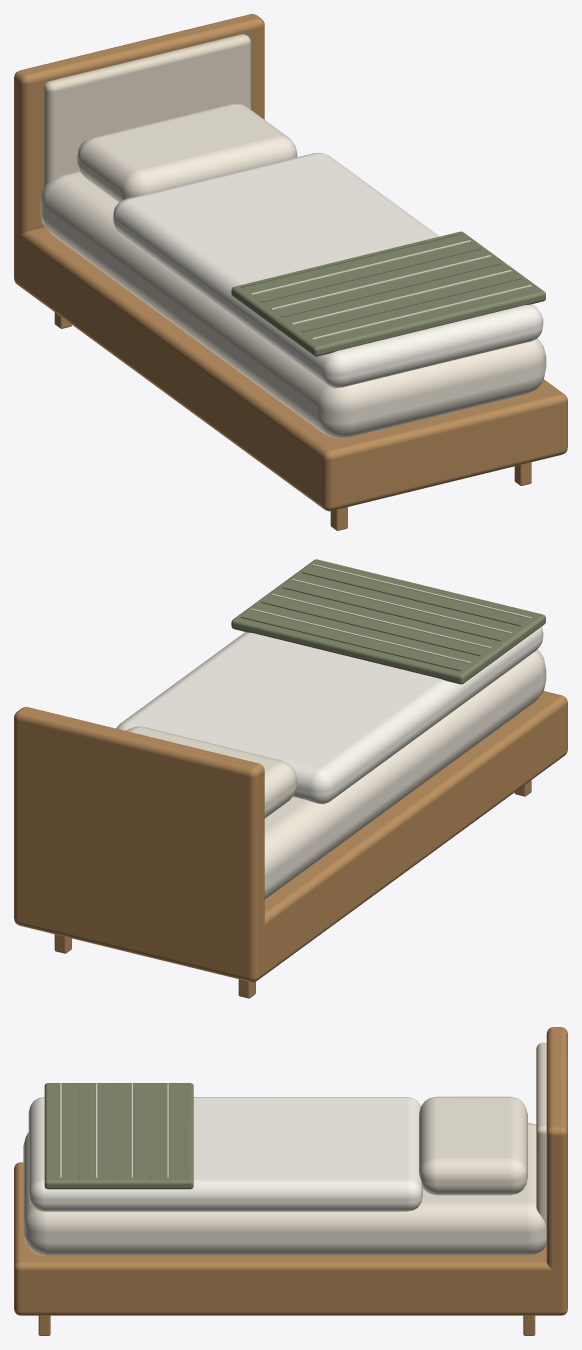
3 renders of one model, top to bottom at view 1: azimuth 30°, elevation 25°; view 2: azimuth 150°, elevation 25°; view 3: azimuth 270°, elevation 25°, orthographic. The views are drawn at different scales.
Visible parts, largest first — view 1: Oak platform, Duvet, Mattress, Sage bed throw, Upholstered headboard inset, Cotton pillow, Headboard; view 2: Headboard, Duvet, Oak platform, Sage bed throw, Mattress, Throw stitched fold (×8), Cotton pillow; view 3: Oak platform, Duvet, Mattress, Sage bed throw, Cotton pillow, Headboard, Upholstered headboard inset.
Part boxes in pixels (x1,y1,x2,y2): Oak platform: (19, 227, 567, 511); Duvet: (113, 153, 543, 388); Mattress: (40, 170, 546, 438); Sage bed throw: (231, 231, 545, 356); Upholstered headboard inset: (43, 34, 250, 187); Cotton pillow: (77, 103, 297, 202); Headboard: (14, 14, 264, 286); Headboard: (14, 707, 264, 982); Duvet: (116, 626, 543, 804); Oak platform: (262, 691, 567, 976); Sage bed throw: (231, 559, 545, 684); Mattress: (264, 649, 546, 899); Throw stitched fold (×8): (241, 564, 531, 671); Cotton pillow: (126, 726, 297, 818); Oak platform: (14, 1162, 553, 1315); Duvet: (28, 1097, 422, 1211); Mattress: (23, 1122, 546, 1255); Sage bed throw: (44, 1083, 193, 1189); Cotton pillow: (419, 1096, 527, 1195); Headboard: (546, 1027, 567, 1315); Upholstered headboard inset: (536, 1042, 546, 1227).
Bounding box in the file's own units: 0.93 × 0.9 × 2.08.
